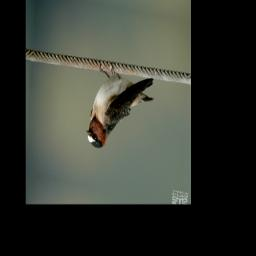Swallow: (83, 60, 156, 162)
